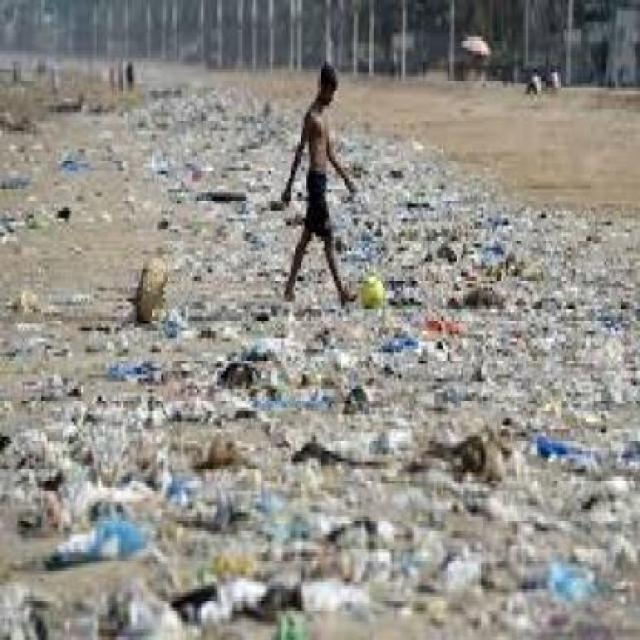garbage: (0, 288, 638, 637), (345, 117, 638, 310), (152, 88, 293, 299)
